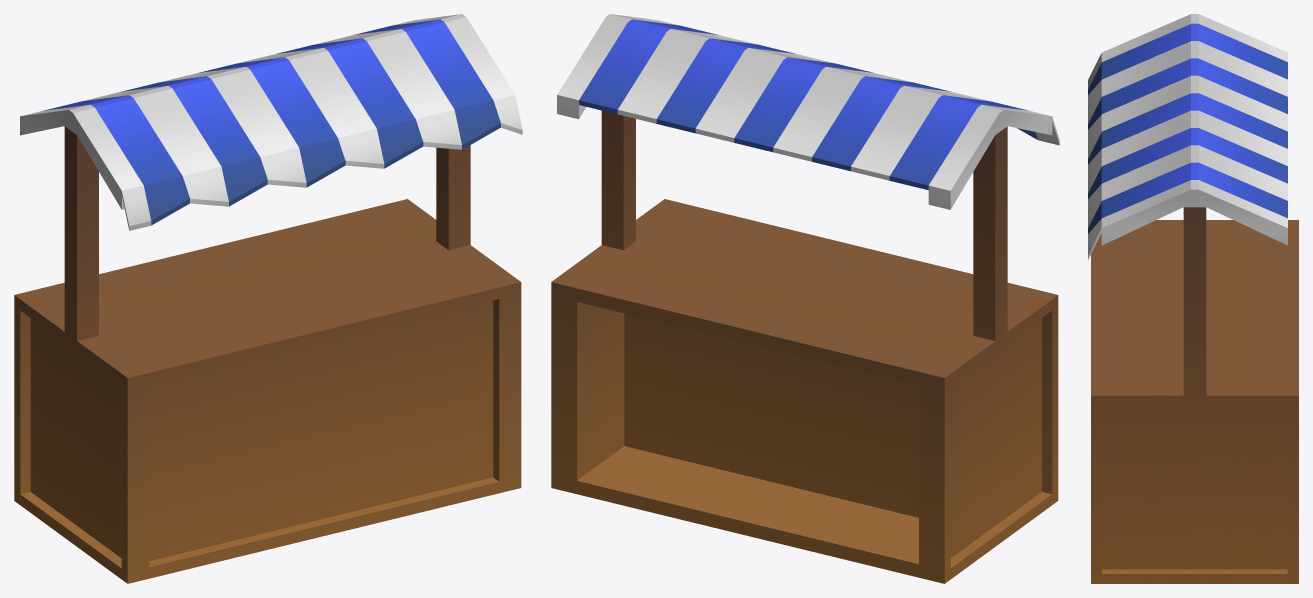
File: marketStall2.fbx
3 views of the same model, side by side, from view 1: azimuth 30°, elevation 25°; view 2: azimuth 150°, elevation 25°; view 3: azimuth 270°, elevation 25° (orthographic). The views are drawn at different scales.
Parts seen in each view (by area): view 1: Cube; view 2: Cube; view 3: Cube.
Part boxes in pixels (x1,y1,x2,y2): Cube: [14, 14, 522, 583]; Cube: [551, 14, 1059, 583]; Cube: [1088, 14, 1298, 583].
Size of the model in its own units: 152 by 77.25 by 159.
